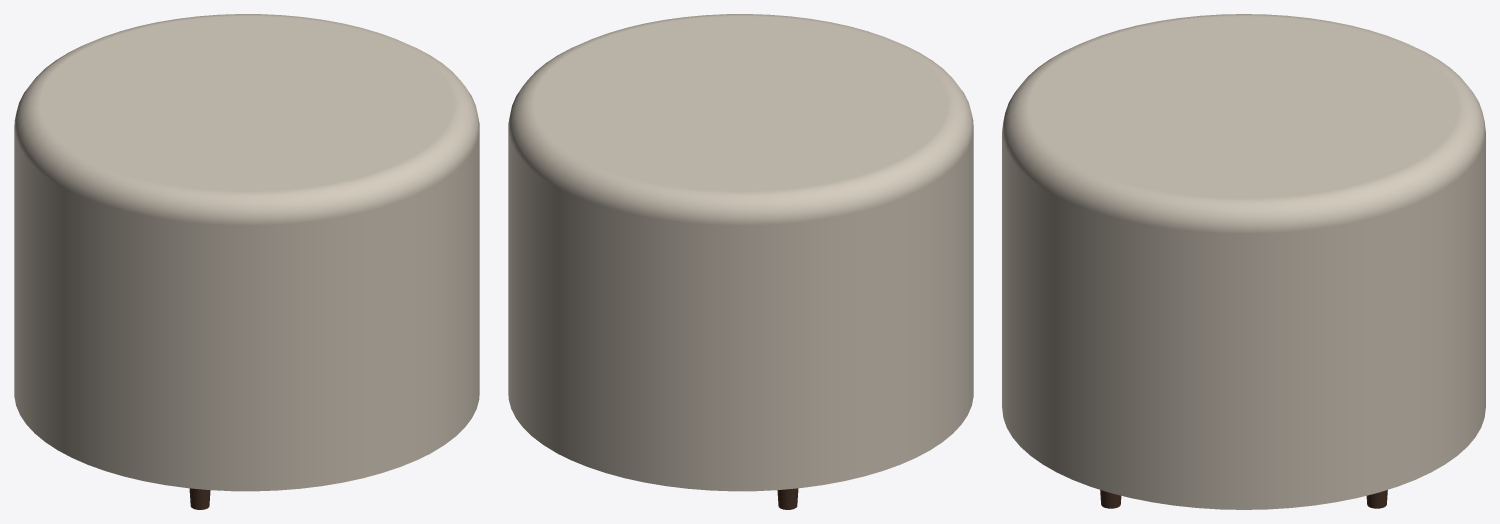
Rendered from ornek-puf.glb.
The picture shows the model from 3 angles, left to right: view 1: azimuth 30°, elevation 25°; view 2: azimuth 150°, elevation 25°; view 3: azimuth 270°, elevation 25°; orthographic projection. The views are drawn at different scales.
Visible parts, largest first — view 1: govde, ust, kenar; view 2: govde, ust, kenar; view 3: govde, ust, kenar.
Boxes of the visible parts, x1,y1,x2,y2 form: govde: (14, 130, 479, 491); ust: (40, 16, 453, 191); kenar: (14, 14, 479, 225); govde: (508, 130, 973, 491); ust: (534, 16, 947, 191); kenar: (508, 14, 973, 225); govde: (1002, 132, 1485, 509); ust: (1029, 16, 1458, 198); kenar: (1002, 14, 1485, 233).
Bounding box in the file's own units: 0.54 × 0.42 × 0.54.
